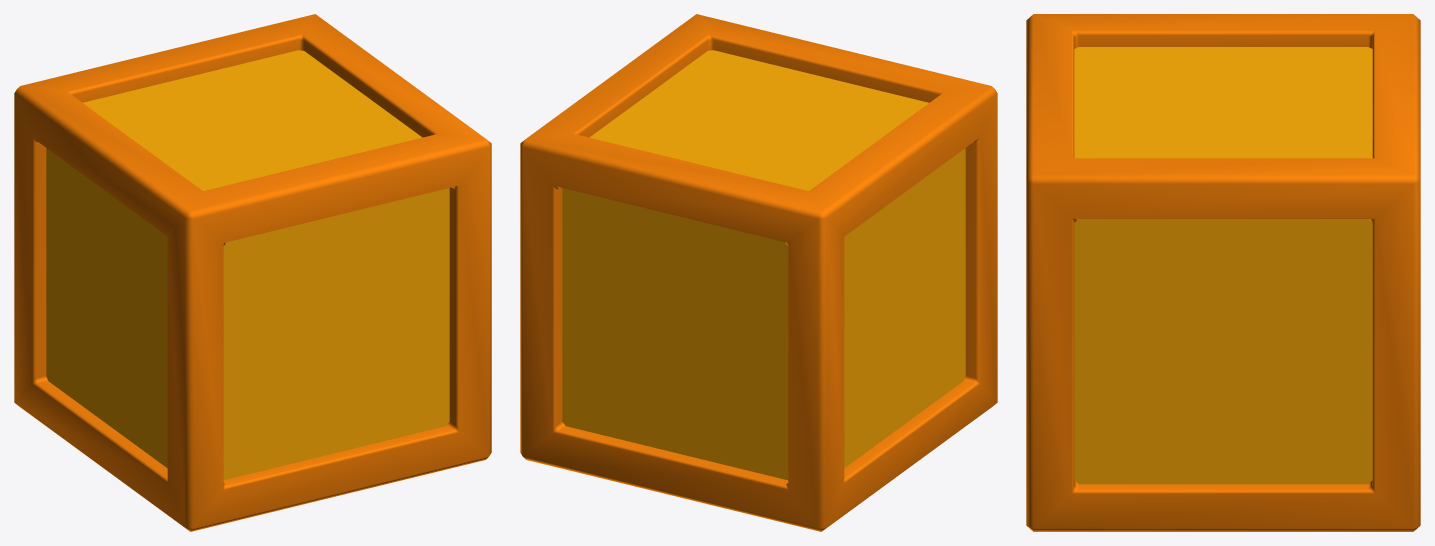
File: City_8_Box_1.glb
3 renders of one model, left to right at view 1: azimuth 30°, elevation 25°; view 2: azimuth 150°, elevation 25°; view 3: azimuth 270°, elevation 25°, orthographic. The views are drawn at different scales.
Visible parts, largest first — view 1: City_8_Box_1; view 2: City_8_Box_1; view 3: City_8_Box_1.
Part boxes in pixels (bbox=[...]): City_8_Box_1: bbox=[14, 14, 491, 531]; City_8_Box_1: bbox=[520, 14, 997, 531]; City_8_Box_1: bbox=[1026, 14, 1420, 531].
Bounding box in the file's own units: 0.941 × 0.941 × 0.941.
1 material, 1 textured.
